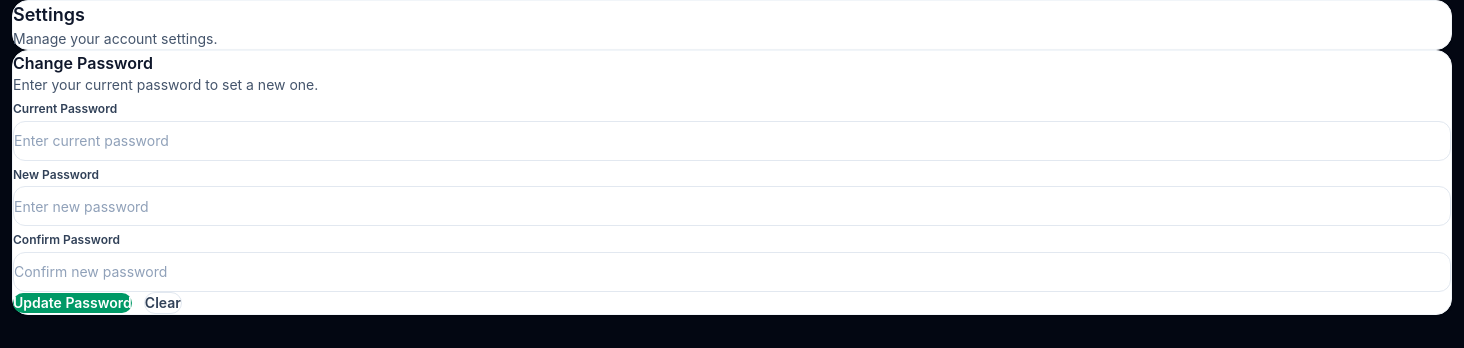
Scenario: SettingsPage › validates passwords match
Type "oldpass" into the password field labelled "Current Password". click: (732, 141)
box: [13, 121, 1451, 161]
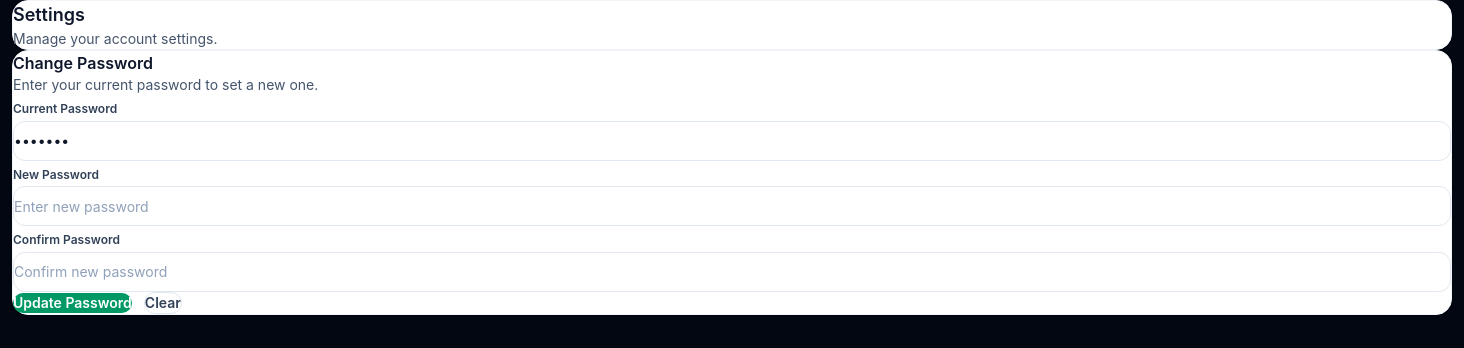
Type "123456" into the password field labelled "New Password". click: (732, 206)
box: [13, 186, 1451, 226]
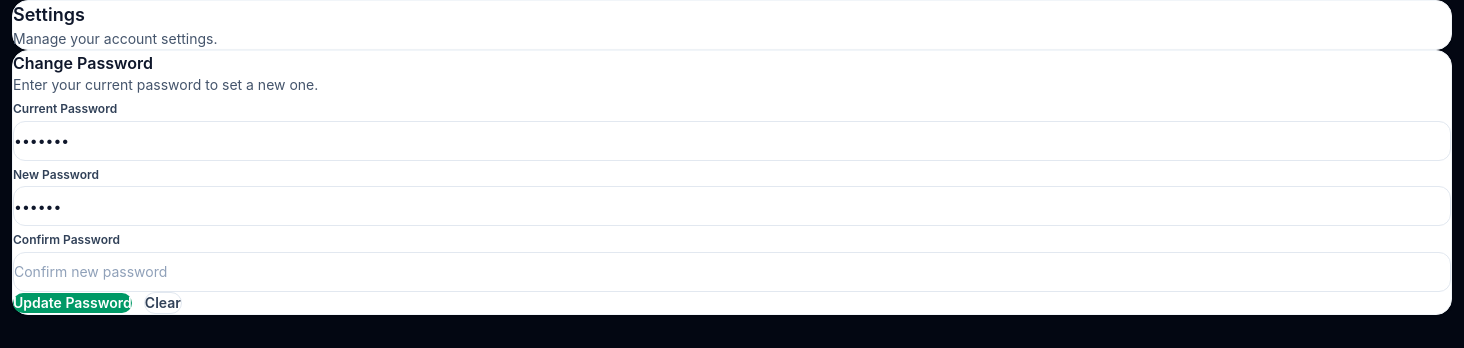
Type "xxxxxx" into the password field named "Confirm new password". click: (732, 272)
box: [13, 252, 1451, 292]
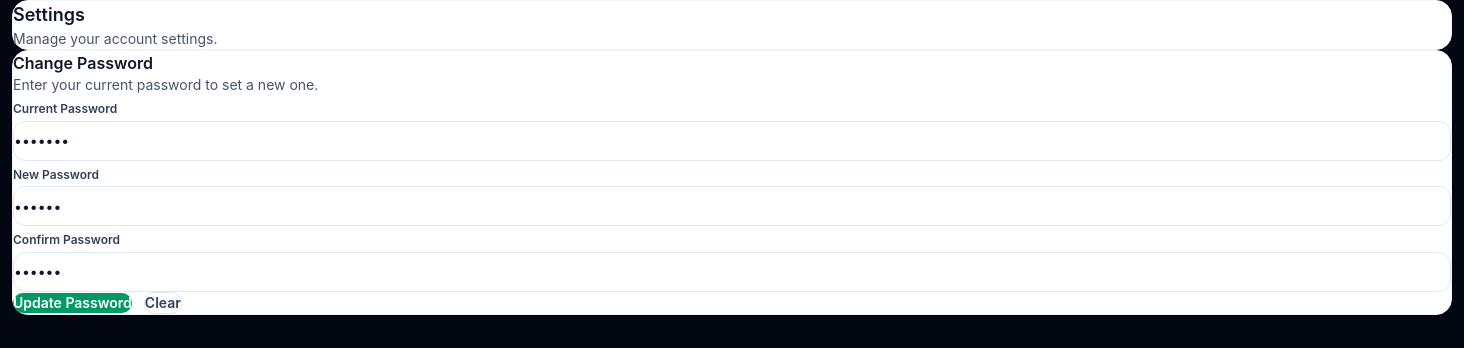
Click the button "Update Password". click: click(72, 303)
box: [13, 293, 132, 313]
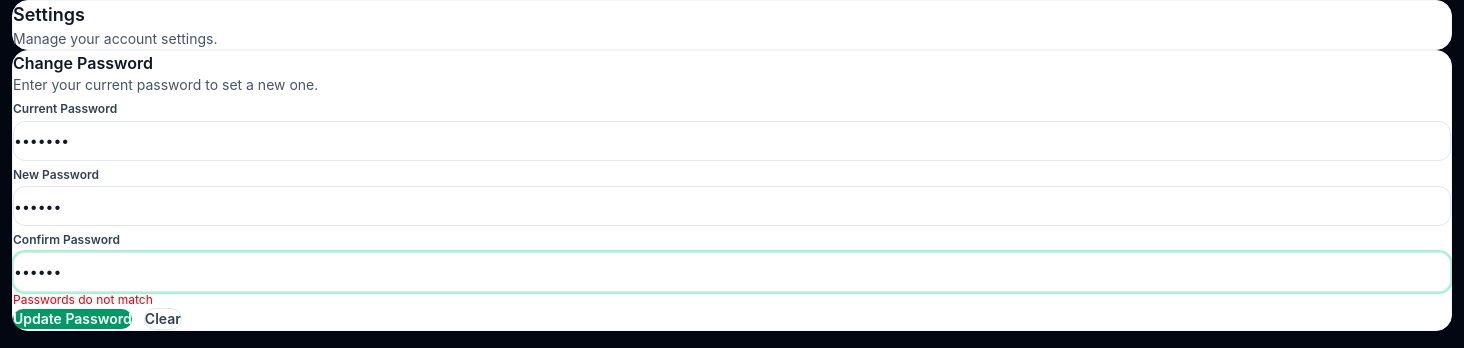
Expected: the text "Passwords do not match" is shown, [13, 292, 153, 307]
